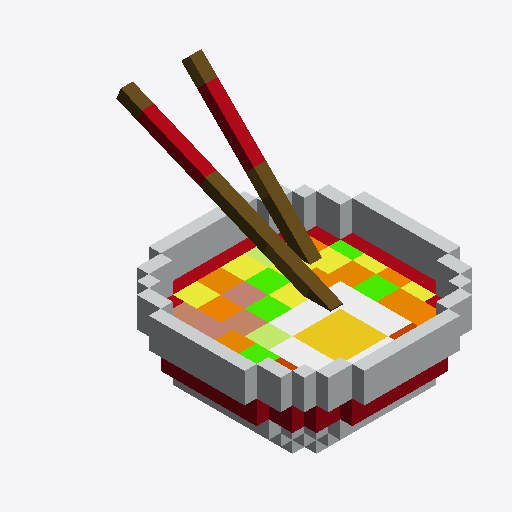
Isometric view (azimuth 45°, elevation 35.3°) of a Minecraft model made of 66 cuboids, textured from the same repository.
Parts seen in each view (by area): element 60, element 66, element 65, element 9, element 58, element 59, element 10, element 61, element 62, element 57, element 8, element 41 (+15 smaller).
Boxes of the visible parts, x1,y1,x2,y2 form: element 60: [173, 246, 416, 370]; element 66: [116, 82, 342, 311]; element 65: [182, 49, 321, 264]; element 9: [352, 309, 459, 404]; element 58: [149, 309, 256, 404]; element 59: [352, 191, 459, 280]; element 10: [149, 191, 256, 280]; element 61: [286, 236, 435, 325]; element 62: [173, 302, 297, 370]; element 57: [161, 358, 268, 425]; element 8: [340, 357, 447, 425]; element 41: [316, 357, 351, 411].
Bounding box in the file's own units: 9 × 7.79 × 13.05.